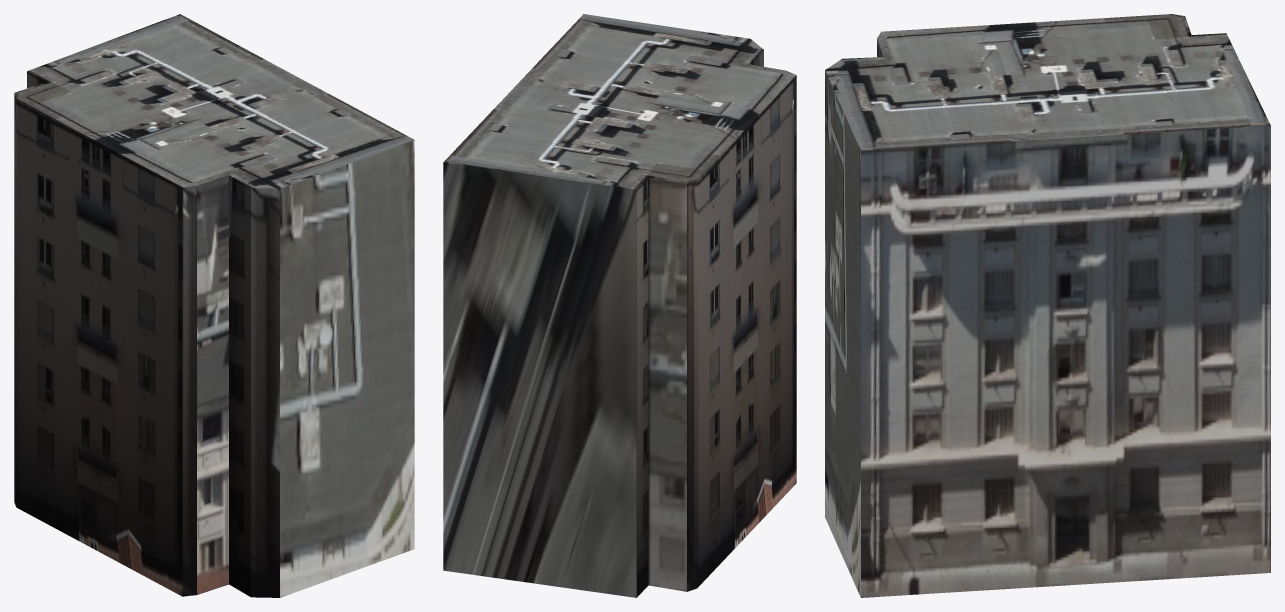
The picture shows the model from 3 angles, left to right: view 1: azimuth 30°, elevation 25°; view 2: azimuth 150°, elevation 25°; view 3: azimuth 270°, elevation 25°; orthographic projection. The views are drawn at different scales.
Parts seen in each view (by area): view 1: Z_UP; view 2: Z_UP; view 3: Z_UP.
Boxes of the visible parts, <box> form: Z_UP: <box>14,14,414,597</box>; Z_UP: <box>443,14,796,597</box>; Z_UP: <box>825,14,1270,597</box>.
Bounding box in the file's own units: 13.97 × 21.33 × 19.26.
2 materials, 1 textured.
